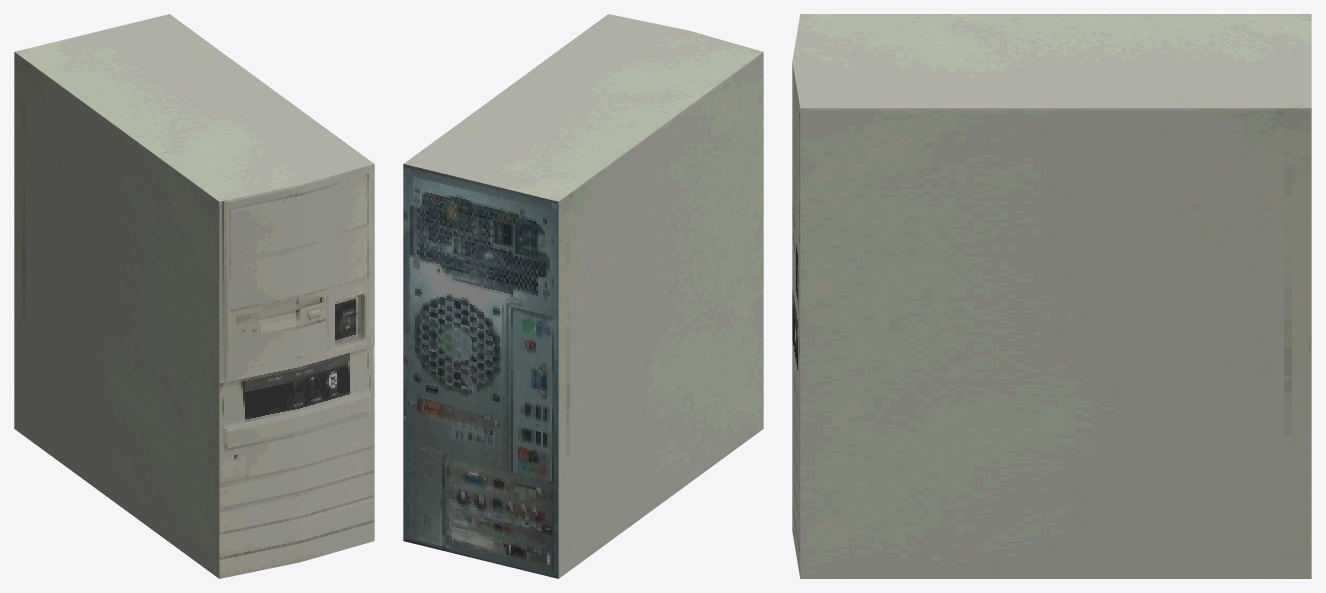
File: computer_tower.glb
The picture shows the model from 3 angles, left to right: view 1: azimuth 30°, elevation 25°; view 2: azimuth 150°, elevation 25°; view 3: azimuth 270°, elevation 25°; orthographic projection. The views are drawn at different scales.
Parts seen in each view (by area): view 1: computer_tower; view 2: computer_tower; view 3: computer_tower.
Boxes of the visible parts, box(x1,y1,x2,y2) form: computer_tower: box(14, 14, 374, 578); computer_tower: box(403, 14, 763, 578); computer_tower: box(792, 14, 1311, 578).
Size of the model in its own units: 0.2622 by 0.6091 by 0.6091.
1 material, 1 textured.
